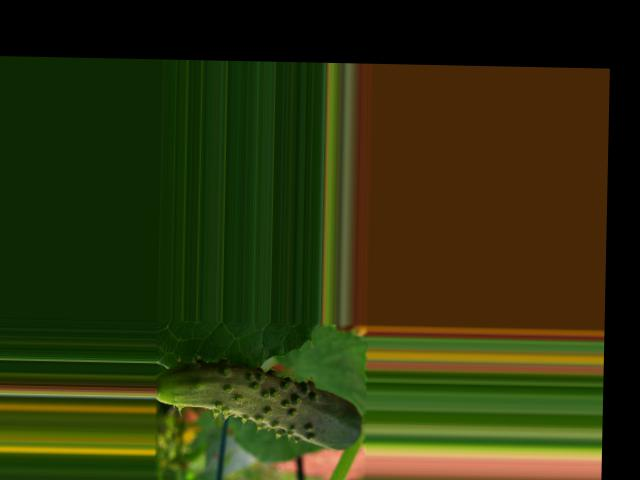cucumber: (155, 357, 364, 449)
